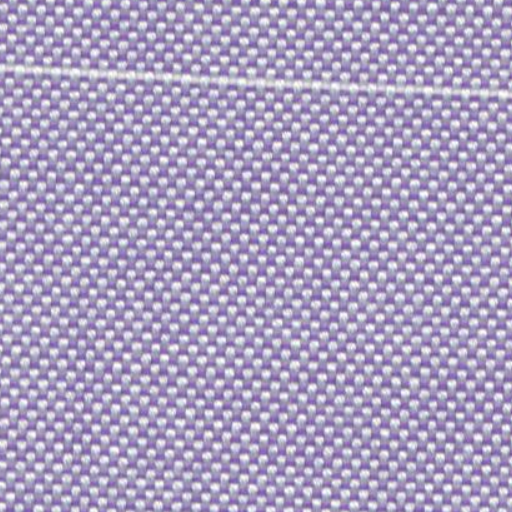TuoSha: (2, 42, 504, 130)
